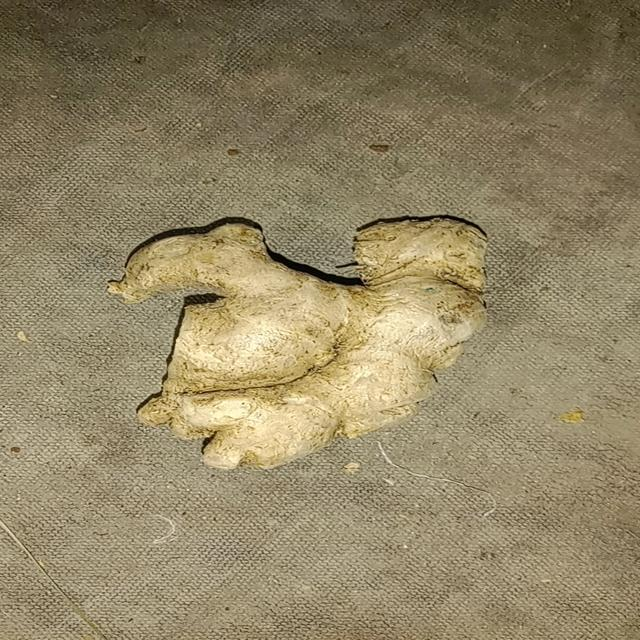ginger: (114, 200, 493, 473)
